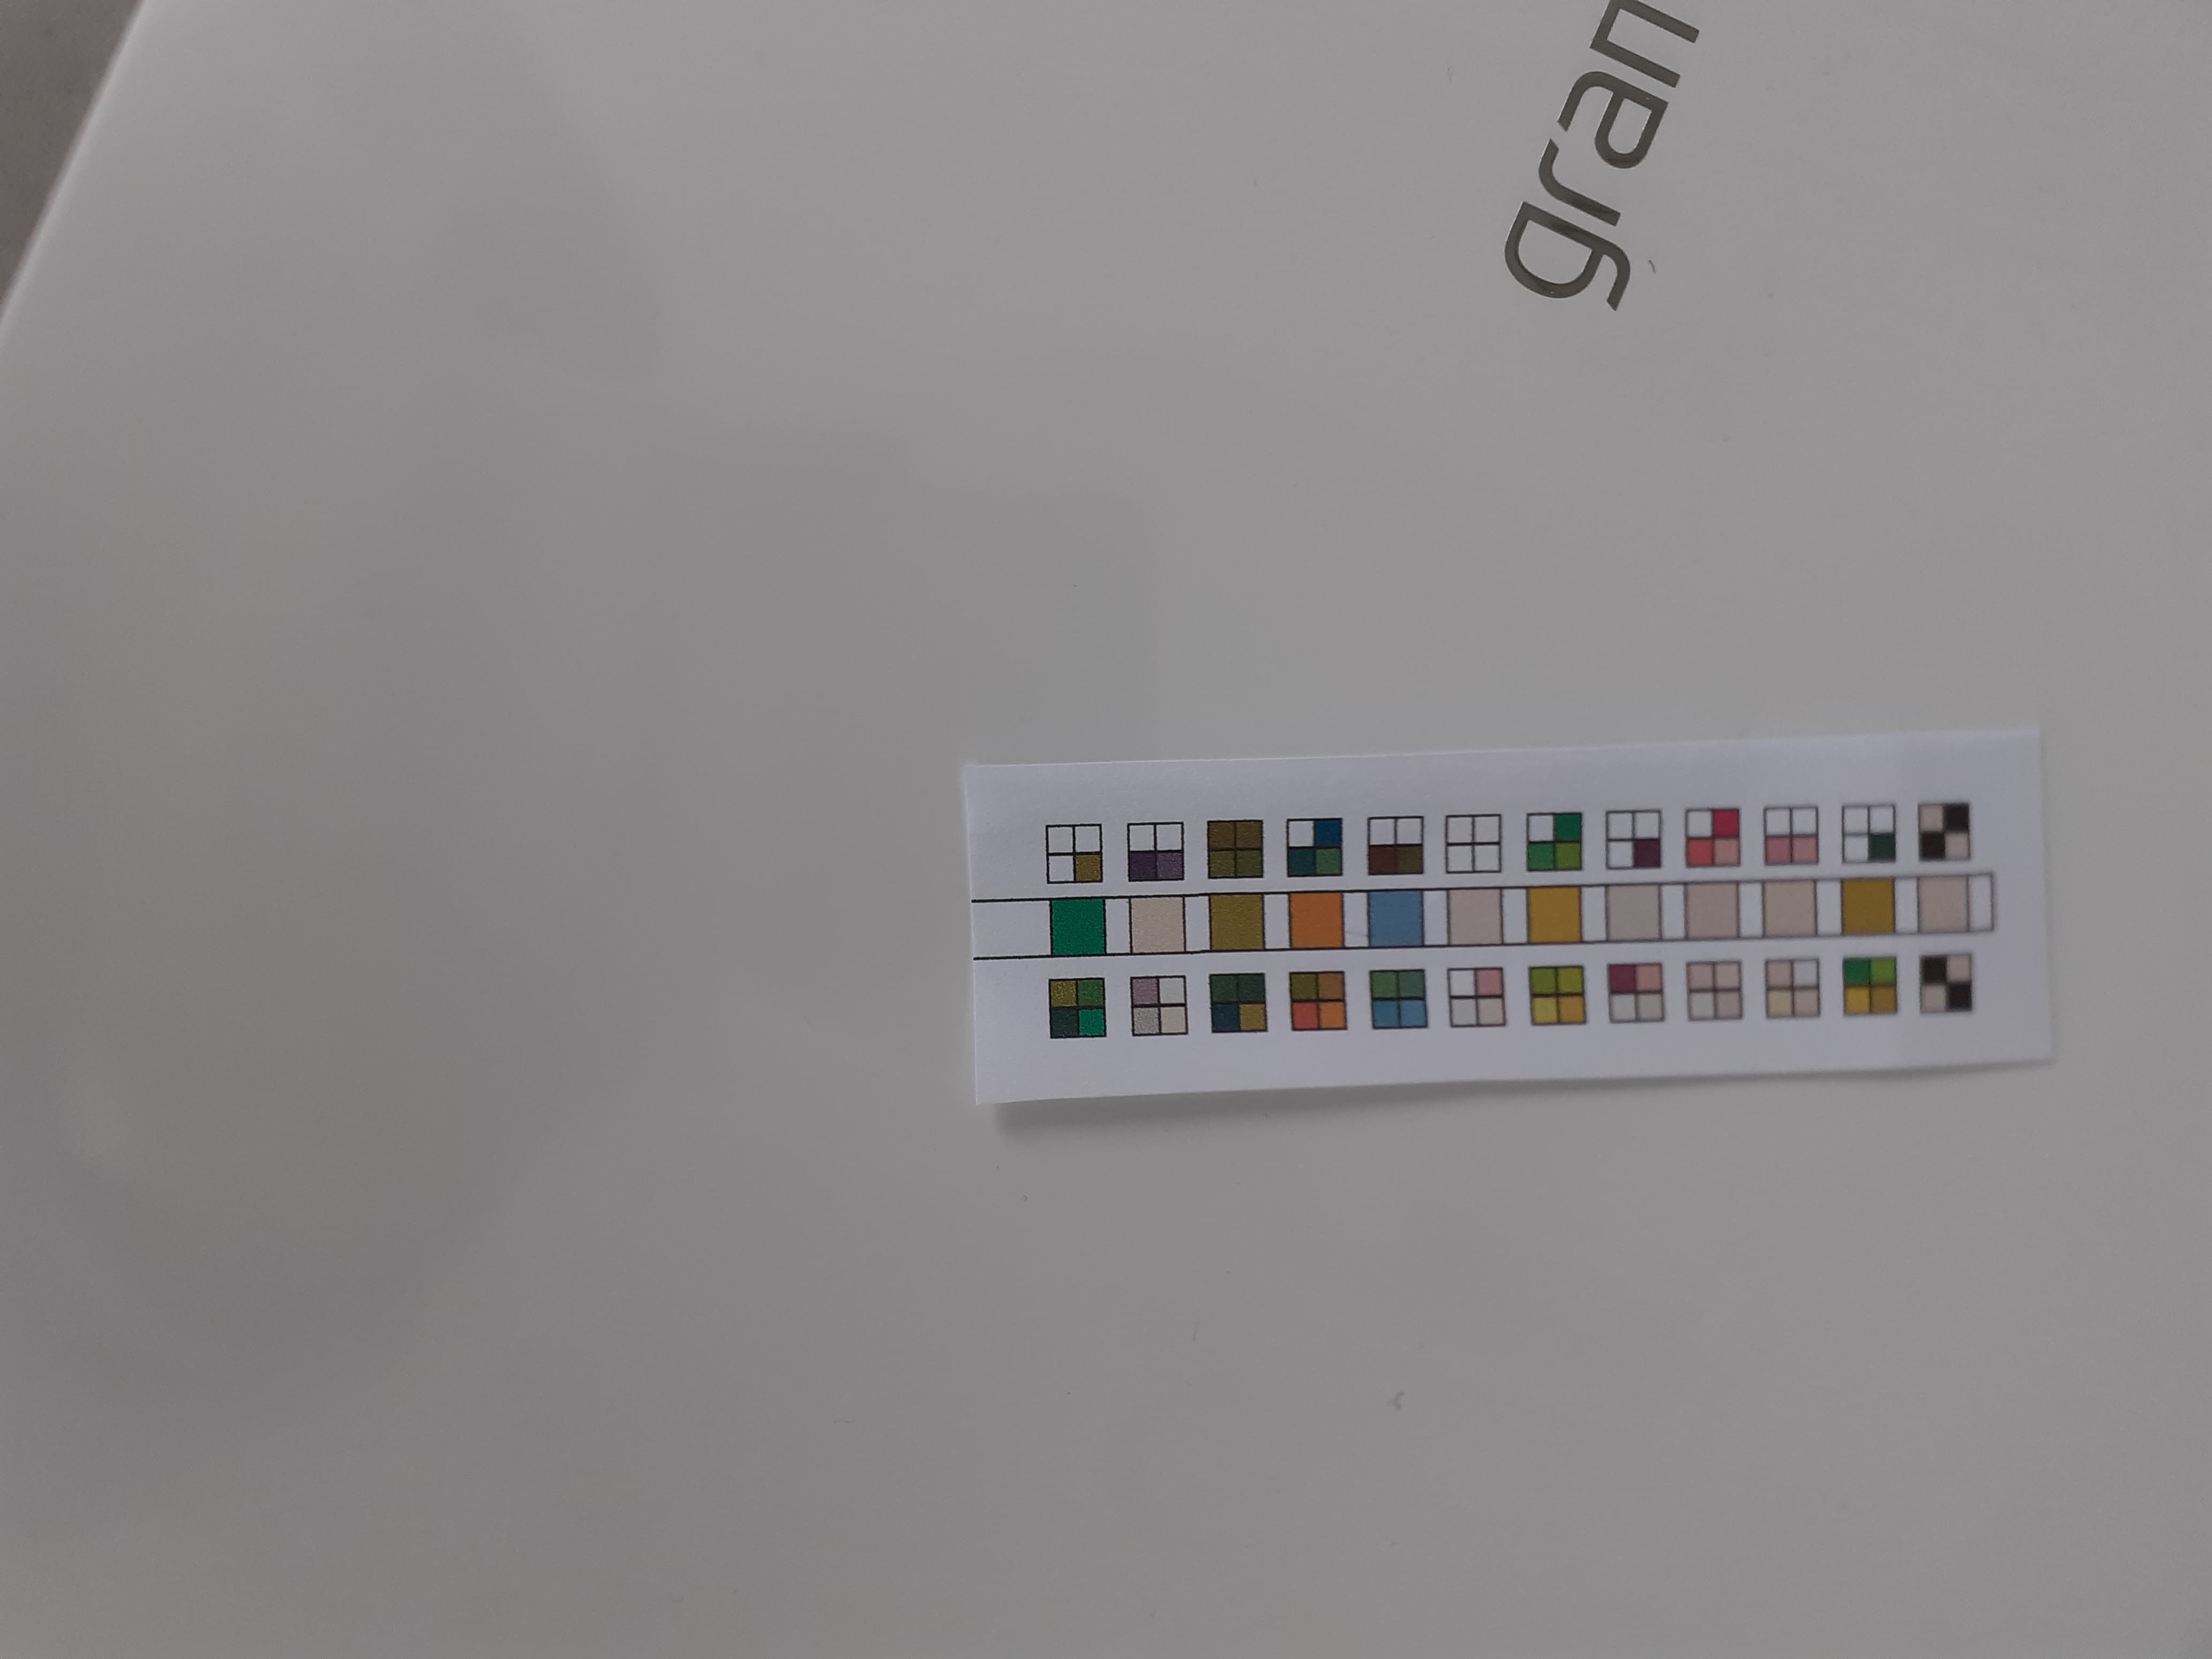tester: (958, 749, 2048, 1073)
